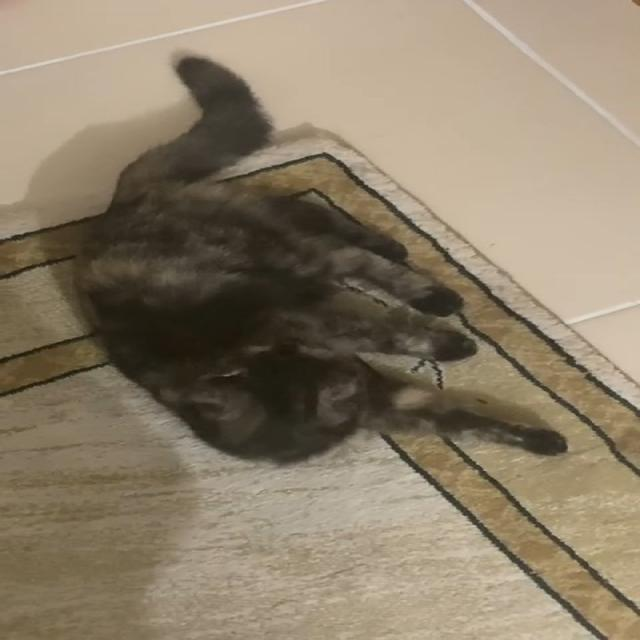authorized: (68, 51, 569, 467)
